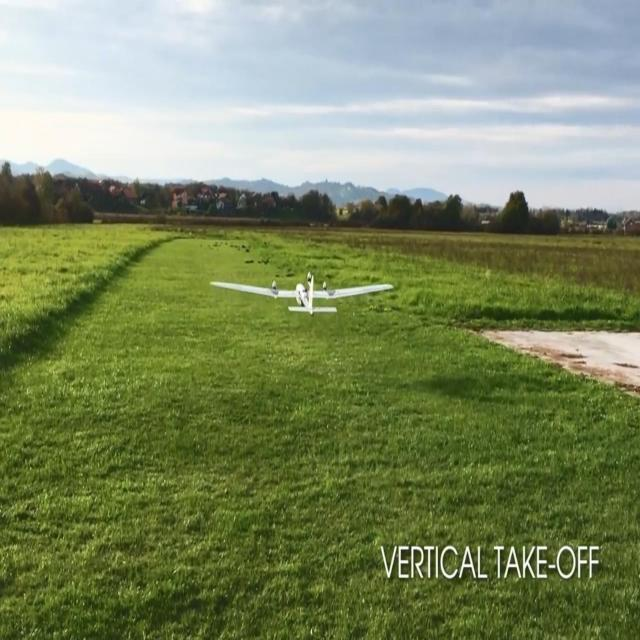UAV: (196, 244, 442, 384)
